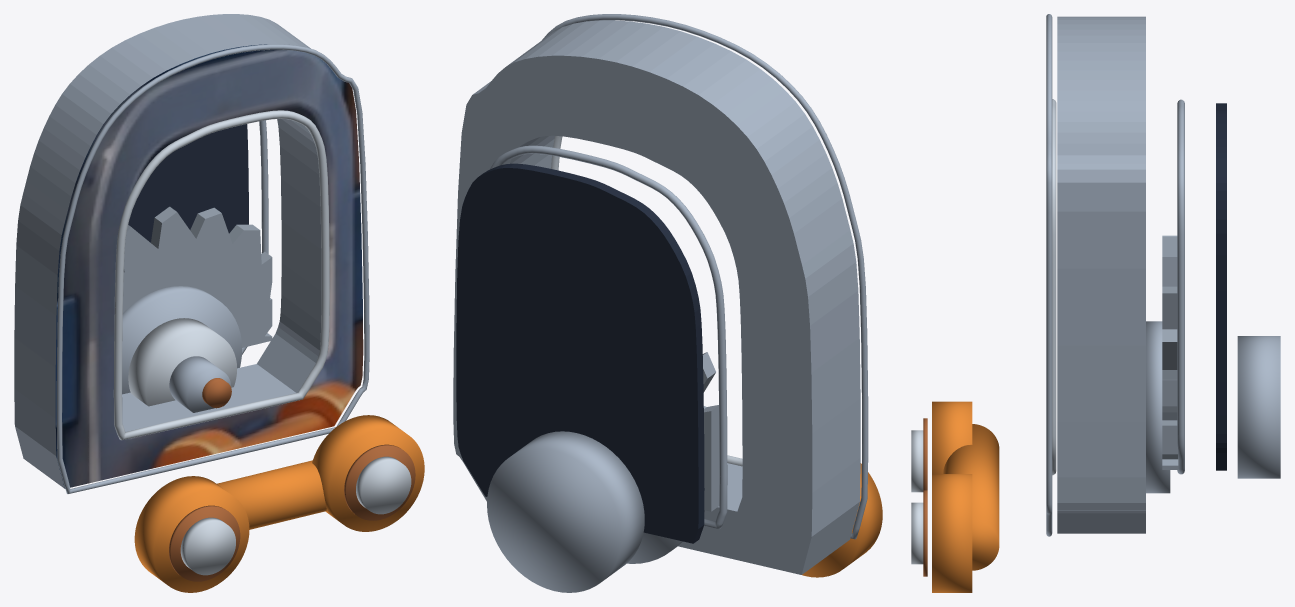
Rendered from T05_SAW_ARTISAN_MODULE.glb.
3 views of the same model, side by side, from view 1: azimuth 30°, elevation 25°; view 2: azimuth 150°, elevation 25°; view 3: azimuth 270°, elevation 25° (orthographic). The views are drawn at different scales.
Visible parts, largest first — view 1: 01_SOURCE_TRACED_FRONT_FORGED_ARCH, 02_EXTRUDED_FRAME_SIDEWALLS, 07_SEPARATE_REAL_SAW_TOOTH_BLADE, 05_DEEP_INTERIOR_SAW_CHAMBER_BACK, 03_INNER_RUBBER_STEEL_GASKET, 04_OUTER_FORGED_EDGE, 13_ORANGE_LEFT_BOSS, 13_ORANGE_RIGHT_BOSS, 09_OUTER_MACHINED_HUB, 08_INNER_SAW_WHEEL, 12_ORANGE_SOLID_CROSSBAR, 15_STEEL_LEFT_CAP (+6 smaller); view 2: 02_EXTRUDED_FRAME_SIDEWALLS, 05_DEEP_INTERIOR_SAW_CHAMBER_BACK, 16_REAR_INTERNAL_BEARING, 04_OUTER_FORGED_EDGE, 06_RECESSED_REAR_WINDOW_TRIM, 13_ORANGE_LEFT_BOSS, 07_SEPARATE_REAL_SAW_TOOTH_BLADE, 08_INNER_SAW_WHEEL; view 3: 02_EXTRUDED_FRAME_SIDEWALLS, 16_REAR_INTERNAL_BEARING, 13_ORANGE_RIGHT_BOSS, 12_ORANGE_SOLID_CROSSBAR, 05_DEEP_INTERIOR_SAW_CHAMBER_BACK, 07_SEPARATE_REAL_SAW_TOOTH_BLADE, 04_OUTER_FORGED_EDGE, 08_INNER_SAW_WHEEL, 06_RECESSED_REAR_WINDOW_TRIM, 13_ORANGE_LEFT_BOSS, 03_INNER_RUBBER_STEEL_GASKET, 15_STEEL_LEFT_CAP (+1 smaller).
Part boxes in pixels (box(x1,y1,x2,y2)): 01_SOURCE_TRACED_FRONT_FORGED_ARCH: box(55, 44, 363, 488); 02_EXTRUDED_FRAME_SIDEWALLS: box(14, 14, 321, 488); 07_SEPARATE_REAL_SAW_TOOTH_BLADE: box(123, 206, 272, 347); 05_DEEP_INTERIOR_SAW_CHAMBER_BACK: box(128, 124, 248, 242); 03_INNER_RUBBER_STEEL_GASKET: box(113, 110, 329, 440); 04_OUTER_FORGED_EDGE: box(56, 44, 369, 493); 13_ORANGE_LEFT_BOSS: box(134, 476, 249, 592); 13_ORANGE_RIGHT_BOSS: box(312, 415, 424, 531); 09_OUTER_MACHINED_HUB: box(128, 318, 236, 406); 08_INNER_SAW_WHEEL: box(122, 286, 242, 394); 12_ORANGE_SOLID_CROSSBAR: box(217, 460, 326, 529); 15_STEEL_LEFT_CAP: box(180, 517, 235, 575); 02_EXTRUDED_FRAME_SIDEWALLS: box(453, 20, 860, 574); 05_DEEP_INTERIOR_SAW_CHAMBER_BACK: box(456, 163, 704, 543); 16_REAR_INTERNAL_BEARING: box(487, 431, 644, 592); 04_OUTER_FORGED_EDGE: box(542, 14, 868, 539); 06_RECESSED_REAR_WINDOW_TRIM: box(490, 145, 727, 529); 13_ORANGE_LEFT_BOSS: box(802, 463, 882, 577); 07_SEPARATE_REAL_SAW_TOOTH_BLADE: box(702, 352, 719, 511); 08_INNER_SAW_WHEEL: box(627, 510, 704, 563); 02_EXTRUDED_FRAME_SIDEWALLS: box(1057, 16, 1145, 533); 16_REAR_INTERNAL_BEARING: box(1237, 336, 1280, 478); 13_ORANGE_RIGHT_BOSS: box(932, 474, 972, 592); 12_ORANGE_SOLID_CROSSBAR: box(943, 424, 999, 570); 05_DEEP_INTERIOR_SAW_CHAMBER_BACK: box(1216, 103, 1226, 470); 07_SEPARATE_REAL_SAW_TOOTH_BLADE: box(1162, 235, 1178, 469); 04_OUTER_FORGED_EDGE: box(1046, 14, 1052, 536); 08_INNER_SAW_WHEEL: box(1146, 321, 1170, 493); 06_RECESSED_REAR_WINDOW_TRIM: box(1177, 99, 1184, 474); 13_ORANGE_LEFT_BOSS: box(932, 401, 972, 473); 03_INNER_RUBBER_STEEL_GASKET: box(1052, 99, 1056, 475); 15_STEEL_LEFT_CAP: box(911, 430, 923, 492).
Size of the model in its own units: 1.44 by 2.12 by 1.37.
7 materials, 1 textured.
